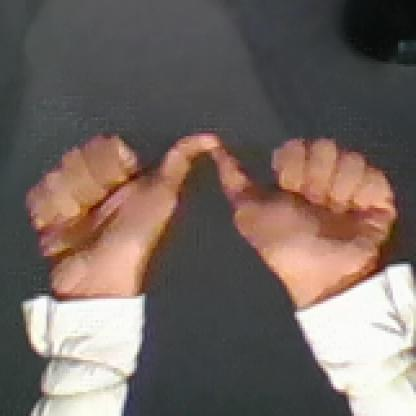A: (16, 113, 396, 293)
